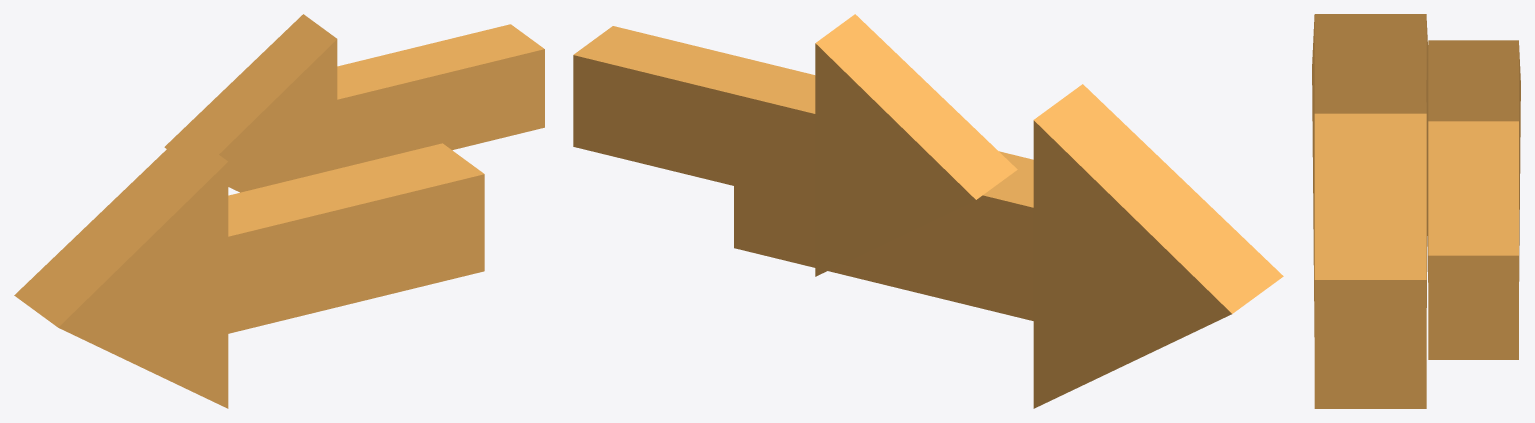
File: Speedup.fbx
The picture shows the model from 3 angles, left to right: view 1: azimuth 30°, elevation 25°; view 2: azimuth 150°, elevation 25°; view 3: azimuth 270°, elevation 25°; orthographic projection. The views are drawn at different scales.
Visible parts, largest first — view 1: Cube.002; view 2: Cube.002; view 3: Cube.002.
Boxes of the visible parts, x1=… form: Cube.002: x1=14, y1=14, x2=544, y2=408; Cube.002: x1=573, y1=14, x2=1283, y2=408; Cube.002: x1=1312, y1=14, x2=1520, y2=408.
Bounding box in the file's own units: 255 × 138 × 65.4.
